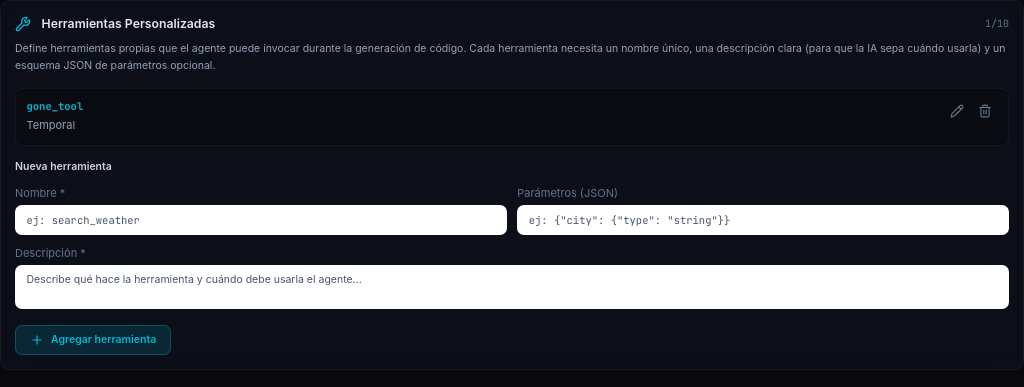
Test case: CustomToolsPanel › elimina una herramienta
Click the button with test id "delete-tool-gone_tool": (985, 111) [973,99,998,124]
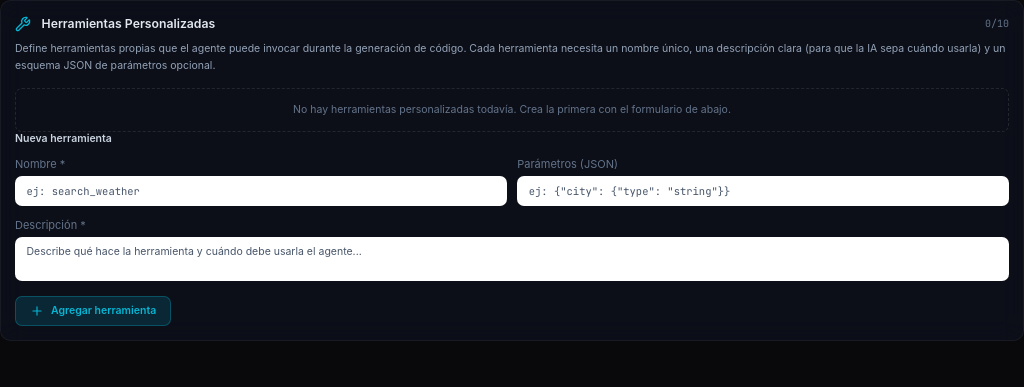
Expected: the list item with test id "custom-tool-item-gone_tool" is gone
